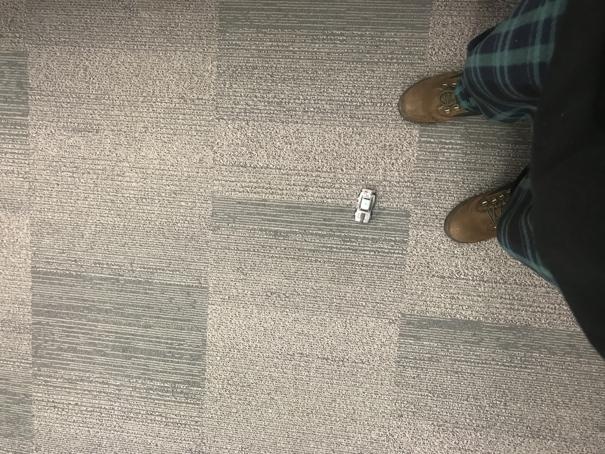Charger: (353, 186, 378, 226)
